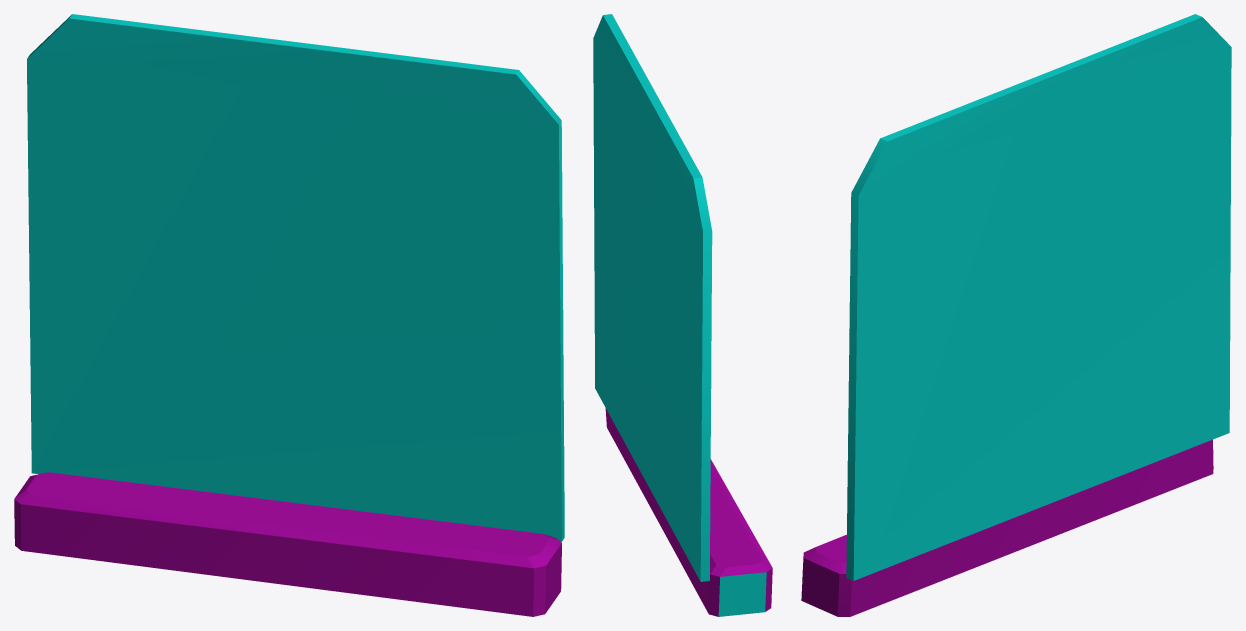
Rendered from vitre.FBX.
The picture shows the model from 3 angles, left to right: view 1: azimuth 30°, elevation 25°; view 2: azimuth 150°, elevation 25°; view 3: azimuth 270°, elevation 25°; orthographic projection. The views are drawn at different scales.
Parts seen in each view (by area): view 1: vitre; view 2: vitre; view 3: vitre.
Part boxes in pixels (x1,y1,x2,y2): vitre: (14, 14, 564, 616); vitre: (593, 14, 772, 616); vitre: (801, 14, 1231, 616).
Bounding box in the file's own units: 6096 × 7823 × 6500.
